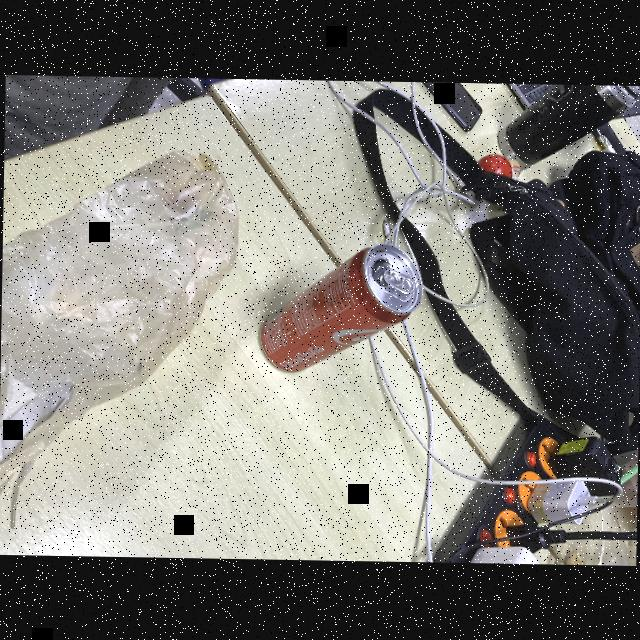can: (255, 241, 425, 378)
plastic_bag: (0, 144, 241, 526)
plastic_cup: (575, 442, 638, 512)
